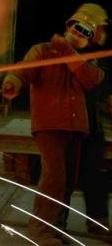boots: (26, 219, 63, 246), (1, 1, 1, 1)
gloves: (49, 31, 73, 55), (1, 72, 22, 98)
hard-hat: (64, 1, 110, 46)
